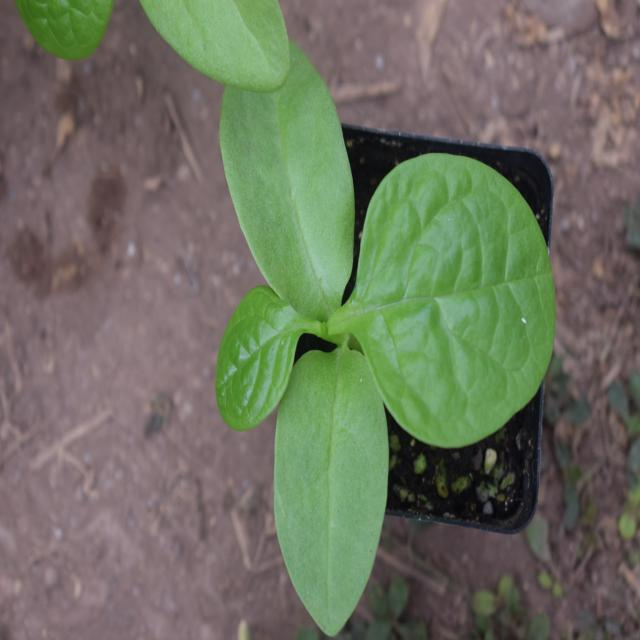Ceylon spinach: (206, 74, 545, 606)
